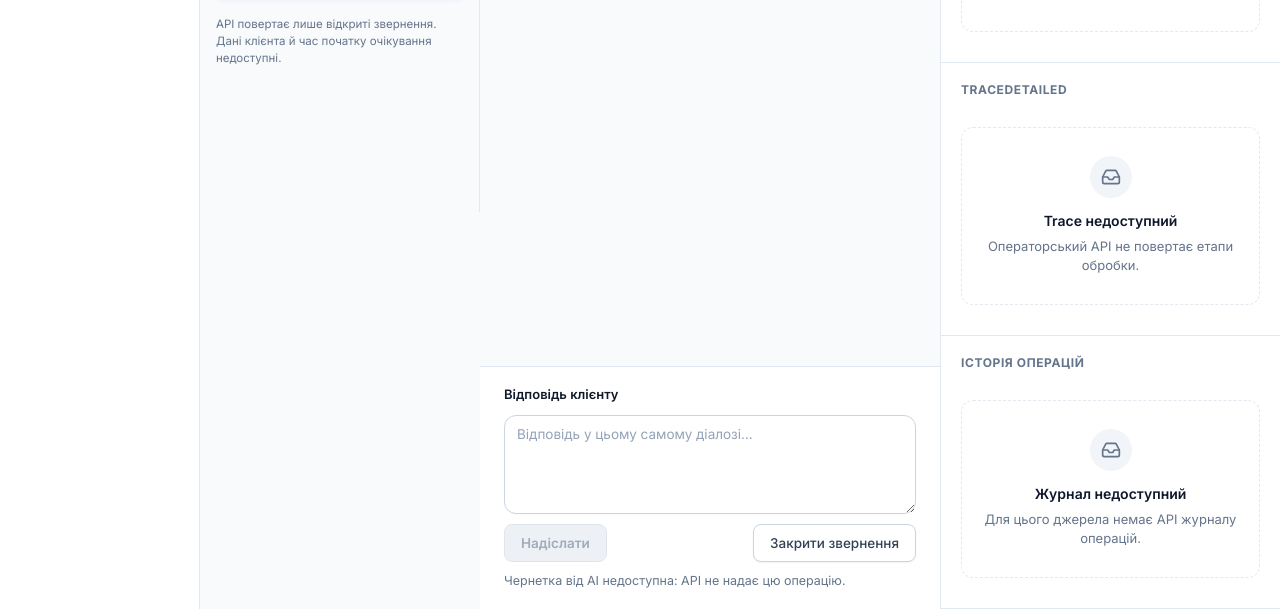
Scenario: support reply sends a stable client ID and resolve refreshes persisted state
(page scrolled)
Type "Перевіряю оплату" into the text box labelled "Відповідь клієнту".
click(710, 464); type("Перевіряю оплату")  # box [504,414,916,514]
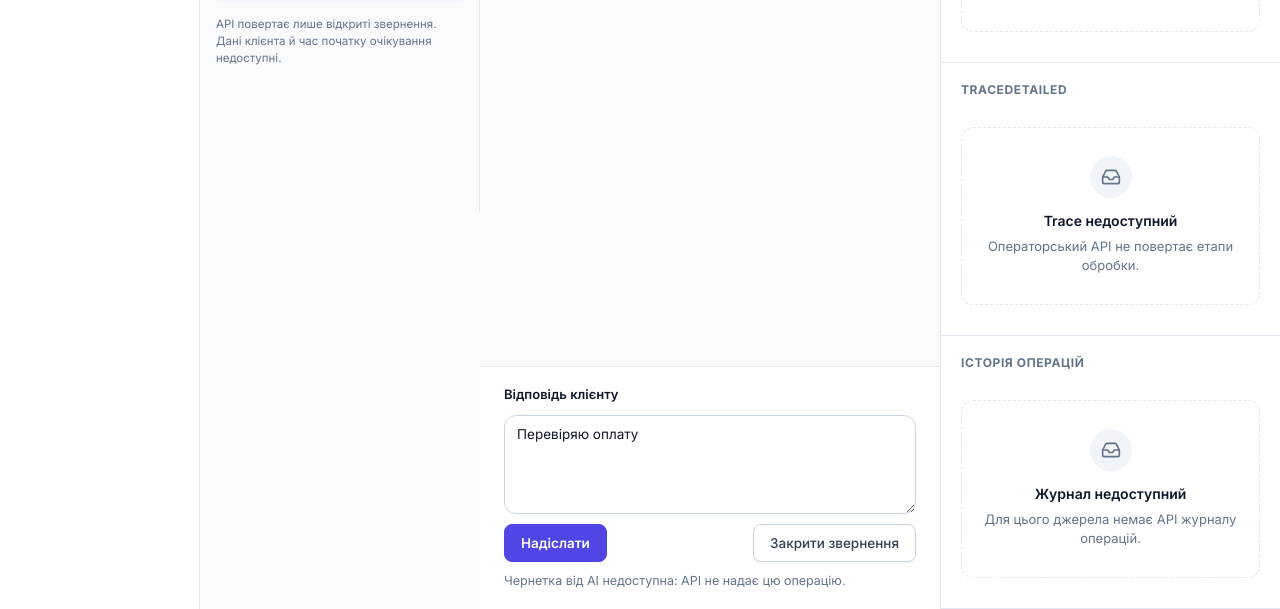
Click the button "Надіслати".
click(555, 543)  # box [504,524,607,562]
(page scrolled)
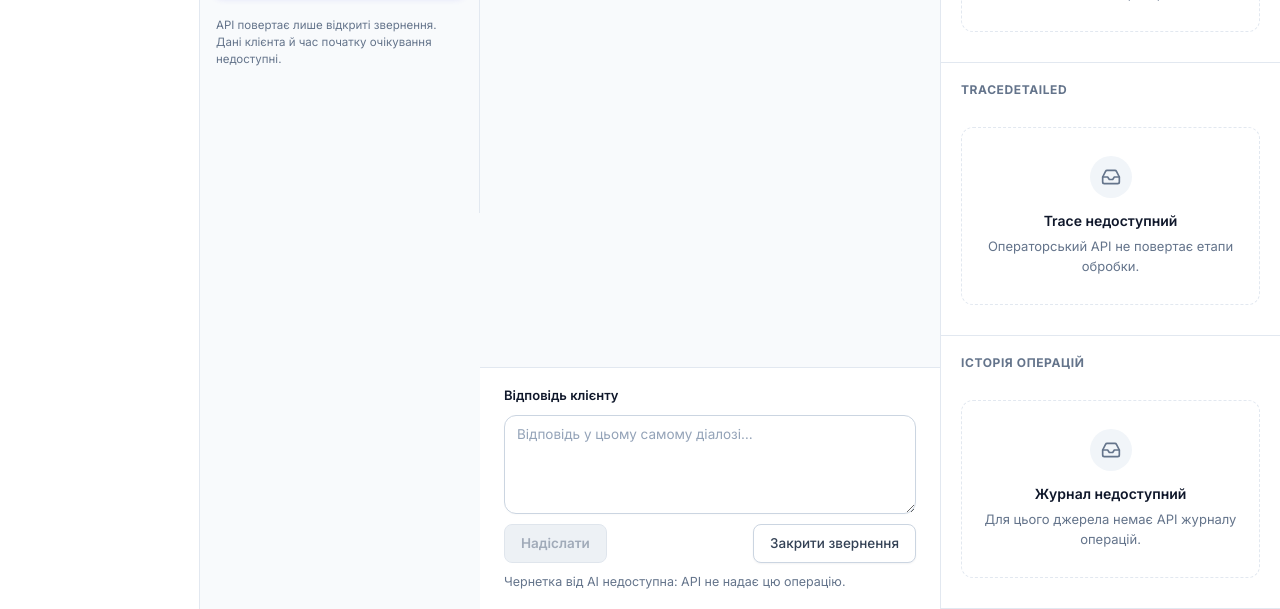
Expected: the text box "Перевіряю оплату" is shown, [504,415,916,514]
Click the button "Закрити звернення".
click(834, 543)  # box [753,524,916,563]
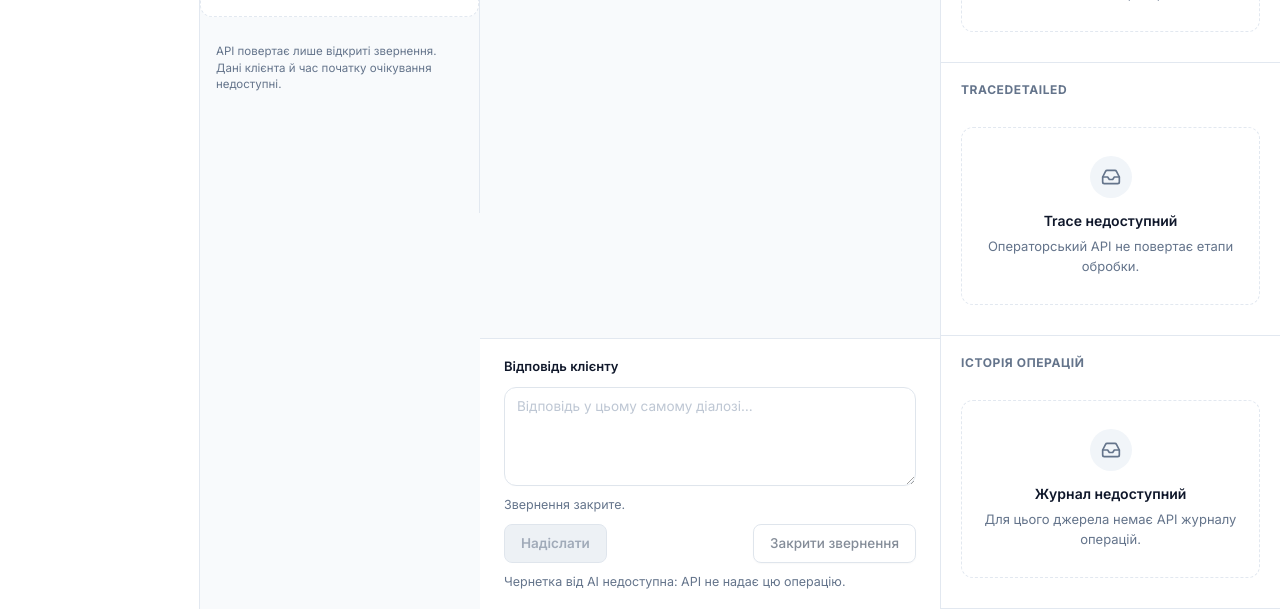
Expected: the text box labelled "Відповідь клієнту" is disabled, [504,387,916,486]
